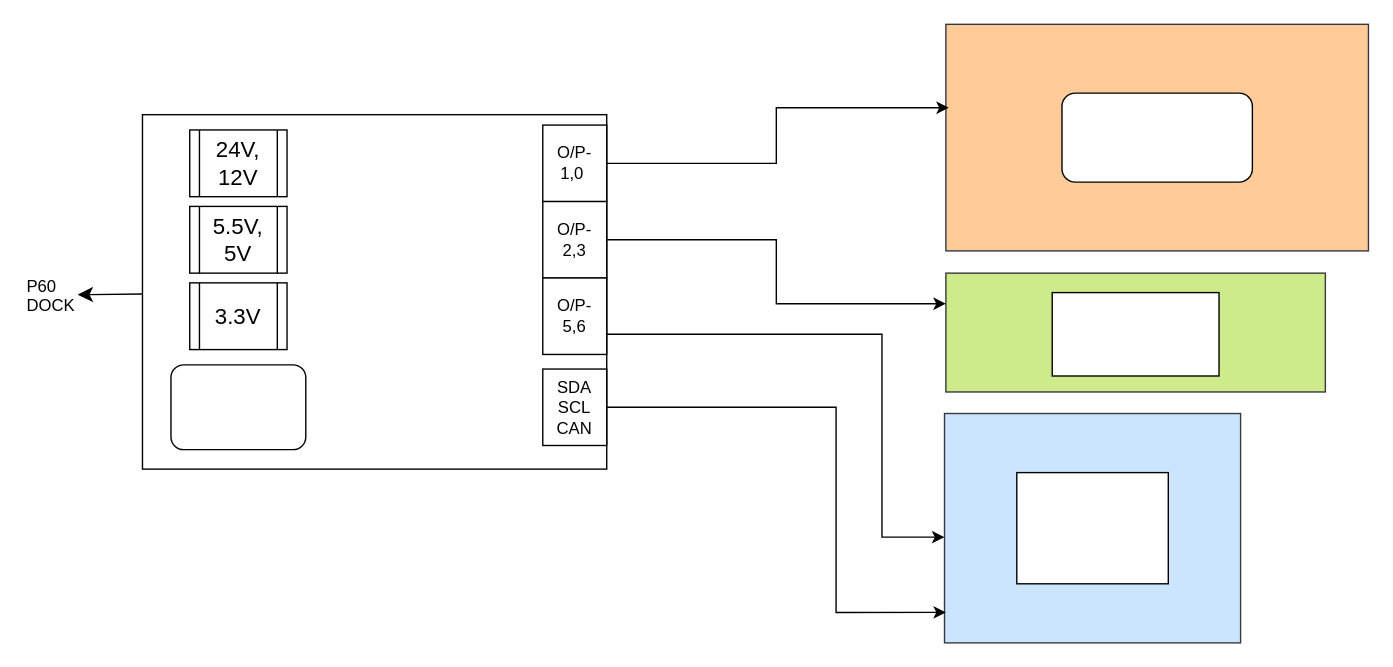
Image size: 1393x667. Some labels were removed from this diagram. Here are the shapes that lost their labels. From the top down, the centre of each, then its label:
At [1156,137]: "ADCS 12V, 0.63A".
At [1135,333]: "Payload, 5V 1A".
At [238,406]: "MCU Measurement and Control".
At [1091,527]: "OBC, 3.3V 0.5A".
